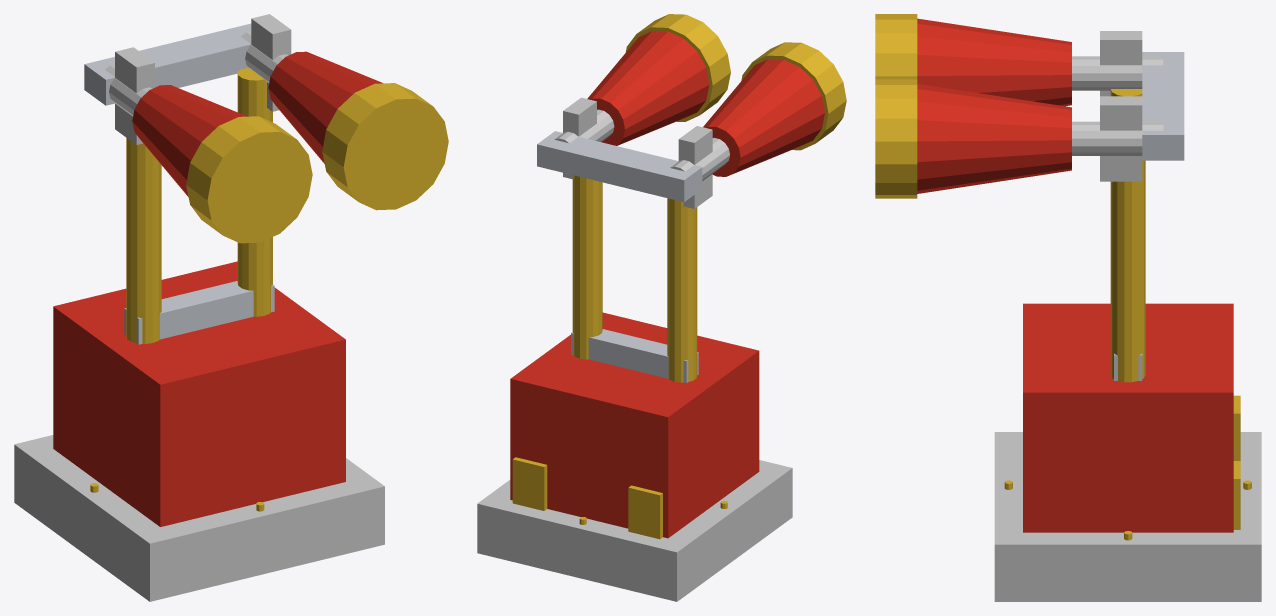
File: air_raid_siren.obj
The picture shows the model from 3 angles, left to right: view 1: azimuth 30°, elevation 25°; view 2: azimuth 150°, elevation 25°; view 3: azimuth 270°, elevation 25°; orthographic projection. The views are drawn at different scales.
Parts seen in each view (by area): view 1: air_raid_siren; view 2: air_raid_siren; view 3: air_raid_siren.
Part boxes in pixels (x1,y1,x2,y2): air_raid_siren: (14,14,448,601); air_raid_siren: (477,14,846,601); air_raid_siren: (875,14,1261,601).
Size of the model in its own units: 0.78 by 1.55 by 1.1.
